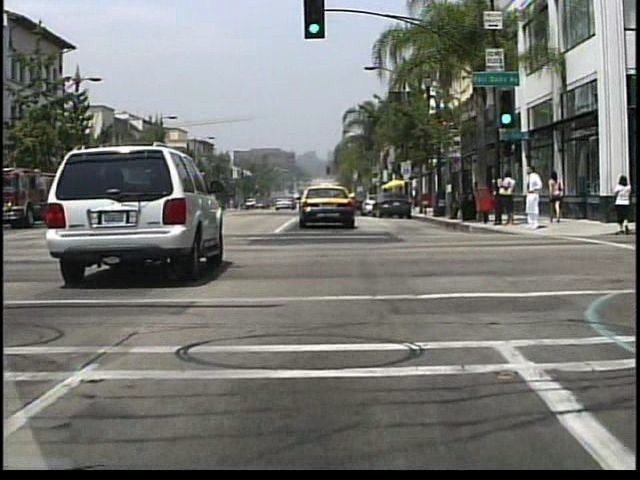person: (523, 166, 542, 231), (611, 175, 631, 236), (500, 168, 518, 230), (546, 171, 564, 226), (409, 187, 419, 213)
